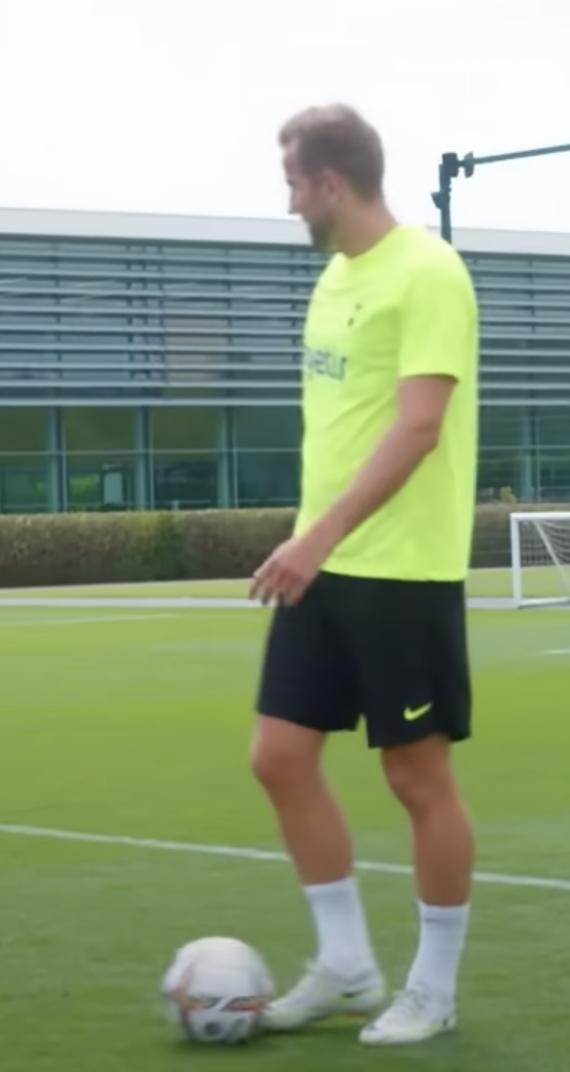ball: (163, 937, 276, 1049)
foot: (253, 950, 388, 1035), (353, 982, 458, 1047)
person: (249, 104, 480, 1045)
